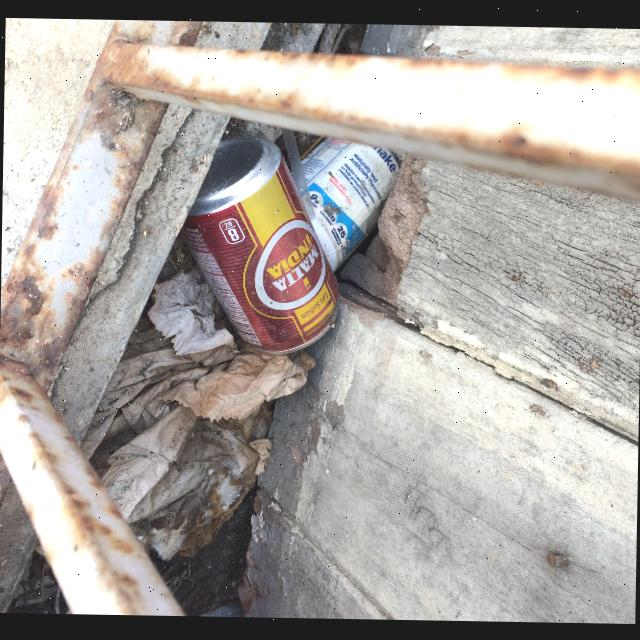trash: (0, 16, 640, 623), (98, 37, 640, 209), (178, 132, 342, 356)
